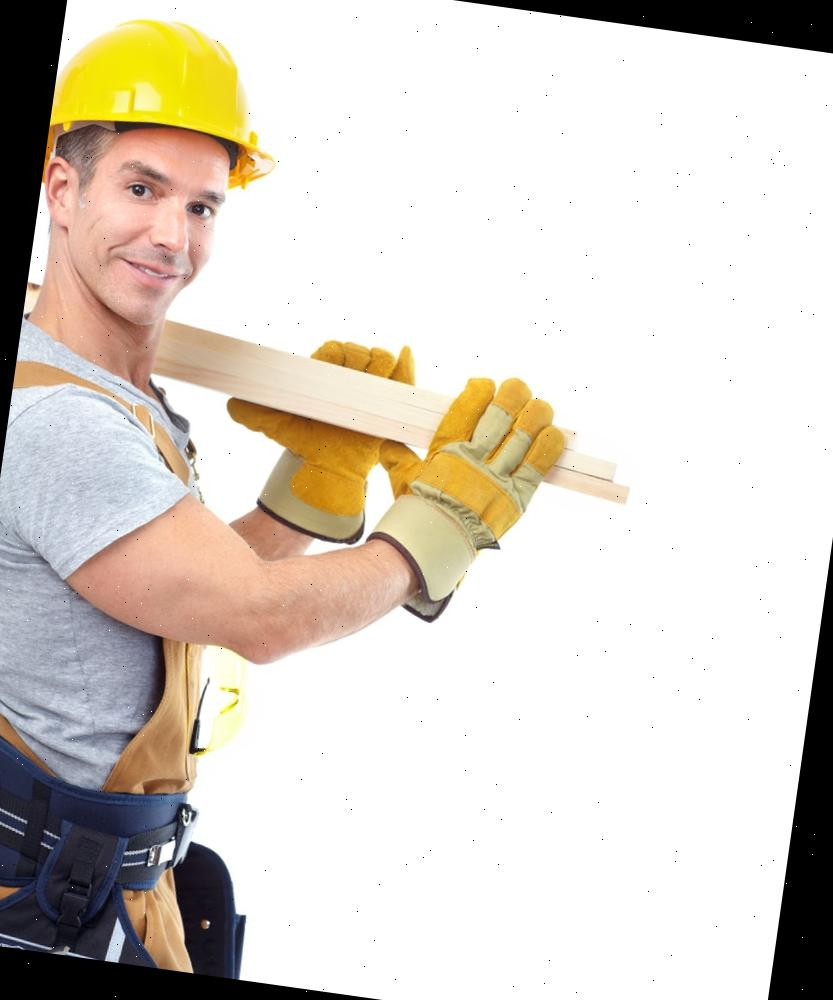helmet: (44, 5, 294, 188)
no_wear: (0, 353, 264, 832)
